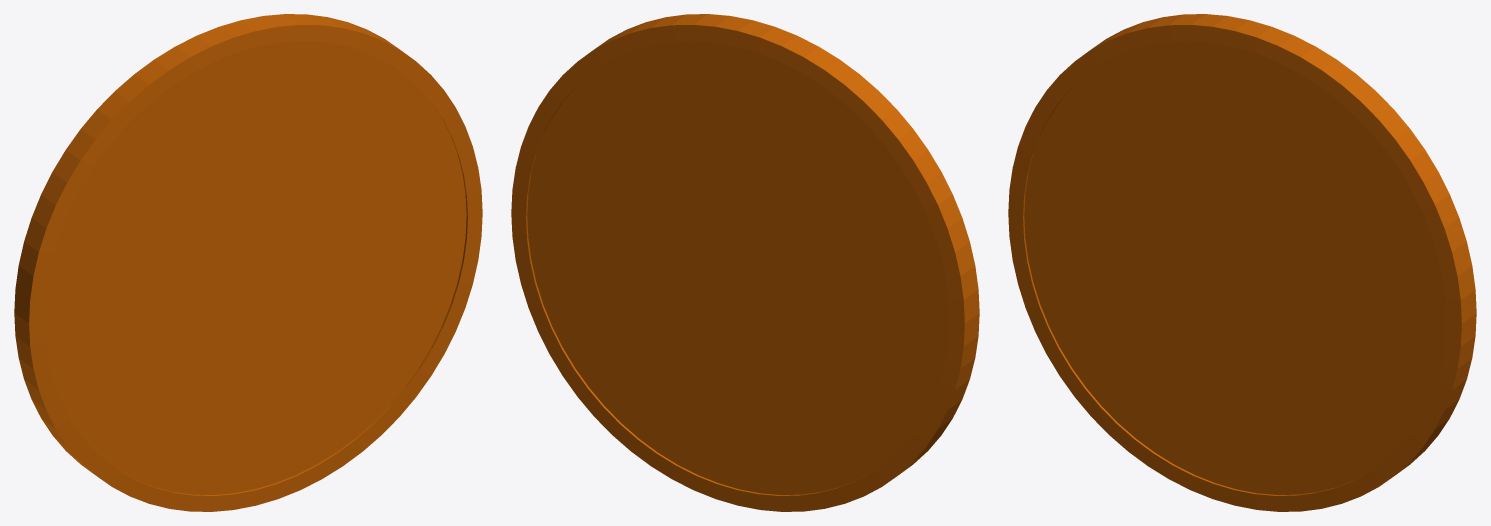
Rendered from coin.obj.
3 renders of one model, left to right at view 1: azimuth 30°, elevation 25°; view 2: azimuth 150°, elevation 25°; view 3: azimuth 330°, elevation 25°, orthographic.
Visible parts, largest first — view 1: Circle; view 2: Circle; view 3: Circle.
Boxes of the visible parts, <box> form: Circle: <box>14,14,482,511</box>; Circle: <box>511,14,979,511</box>; Circle: <box>1008,14,1476,511</box>.
Size of the model in its own units: 2.01 by 2.01 by 0.12.
